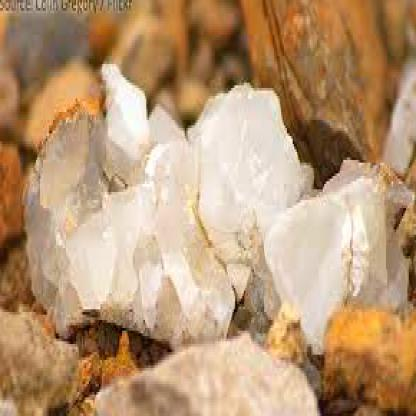Metamorphic_Quartize: (245, 139, 410, 352), (36, 154, 215, 346), (192, 83, 309, 309)
